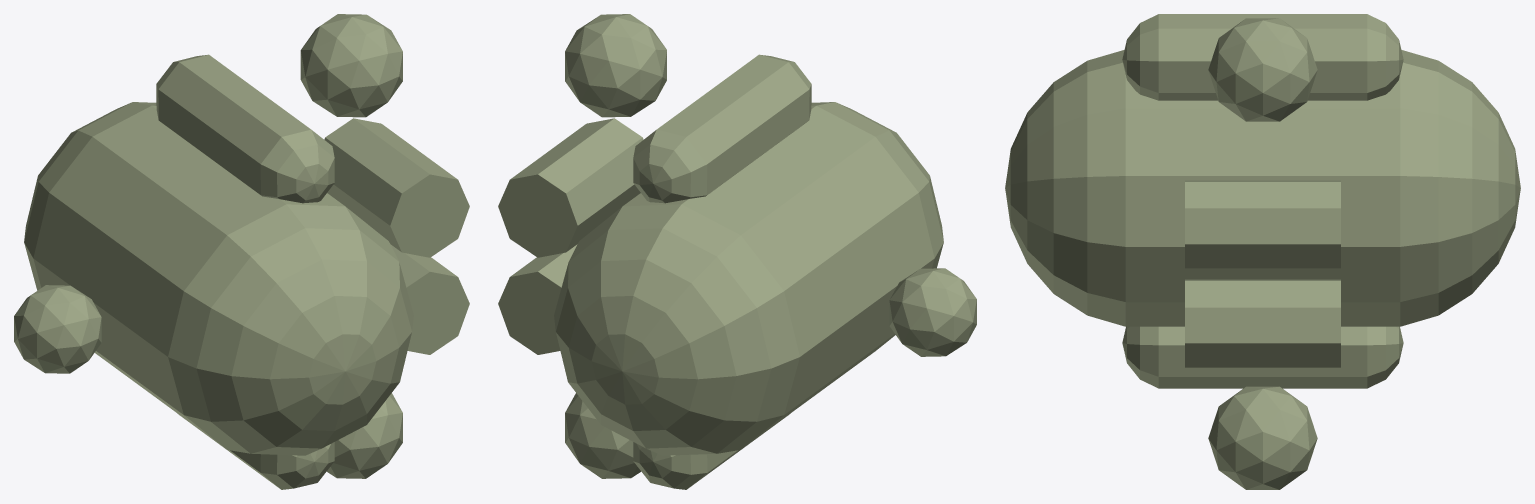
Rendered from Troll_Craglorn_Boss.glb.
3 views of the same model, side by side, from view 1: azimuth 30°, elevation 25°; view 2: azimuth 150°, elevation 25°; view 3: azimuth 270°, elevation 25° (orthographic).
Visible parts, largest first — view 1: world; view 2: world; view 3: world.
Boxes of the visible parts, x1=… form: world: x1=14, y1=14, x2=469, y2=489; world: x1=498, y1=14, x2=976, y2=489; world: x1=1005, y1=14, x2=1520, y2=489.
Bounding box in the file's own units: 3.88 × 4 × 4.
